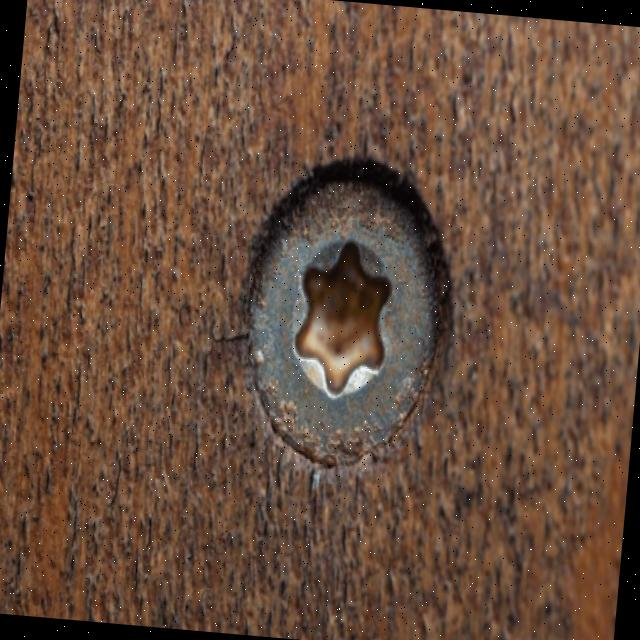Torx: (238, 172, 453, 473)
